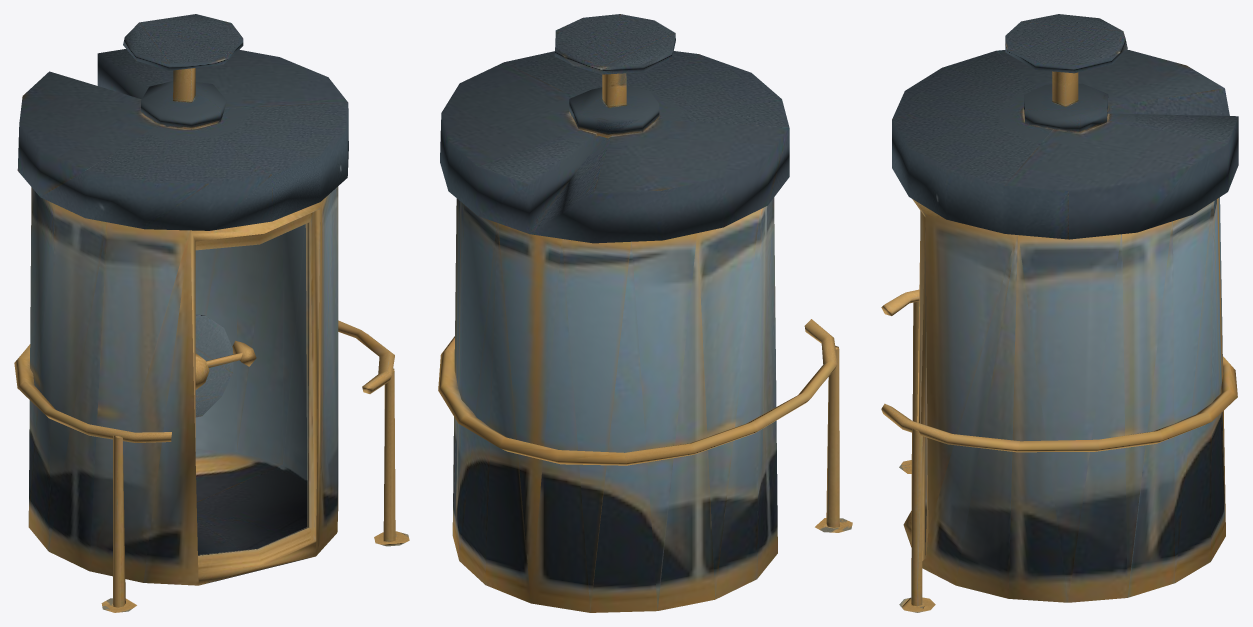
Rendered from revolving_door.glb.
3 views of the same model, side by side, from view 1: azimuth 30°, elevation 25°; view 2: azimuth 150°, elevation 25°; view 3: azimuth 270°, elevation 25° (orthographic). The views are drawn at different scales.
Size of the model in its own units: 2.47 by 3.5 by 2.28.
Materials: 1 (1 with a texture image).
